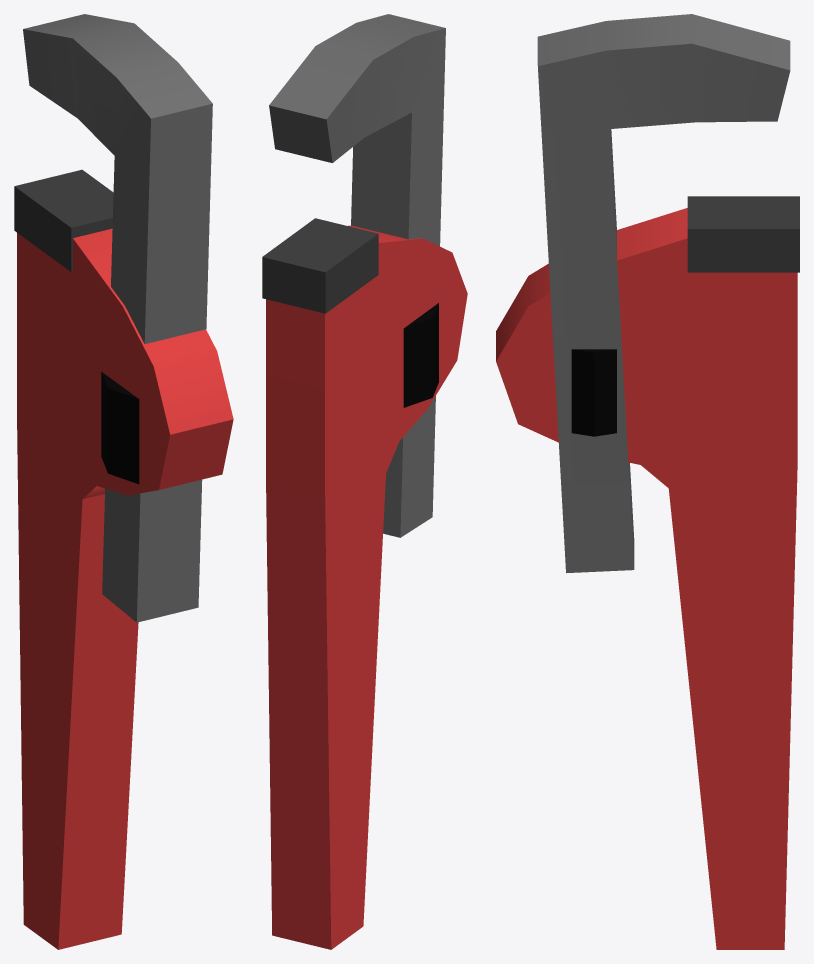
Rendered from Wrench.fbx.
3 views of the same model, side by side, from view 1: azimuth 30°, elevation 25°; view 2: azimuth 150°, elevation 25°; view 3: azimuth 270°, elevation 25° (orthographic). The views are drawn at different scales.
Parts seen in each view (by area): view 1: Wrench; view 2: Wrench; view 3: Wrench.
Part boxes in pixels (box(x1,y1,x2,y2)): Wrench: box(14, 14, 233, 949); Wrench: box(262, 14, 467, 949); Wrench: box(496, 14, 799, 949).
Size of the model in its own units: 3.38 by 35.52 by 10.79.
